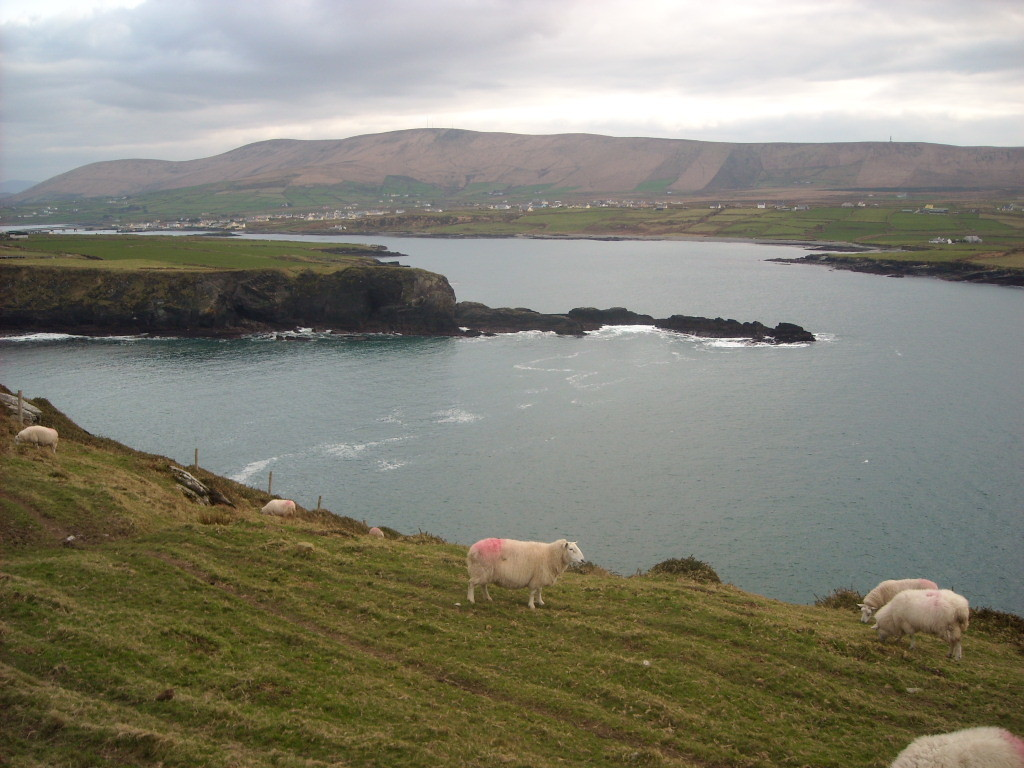sheep: (467, 537, 583, 607), (874, 589, 967, 658), (19, 427, 60, 453), (261, 494, 298, 520)
